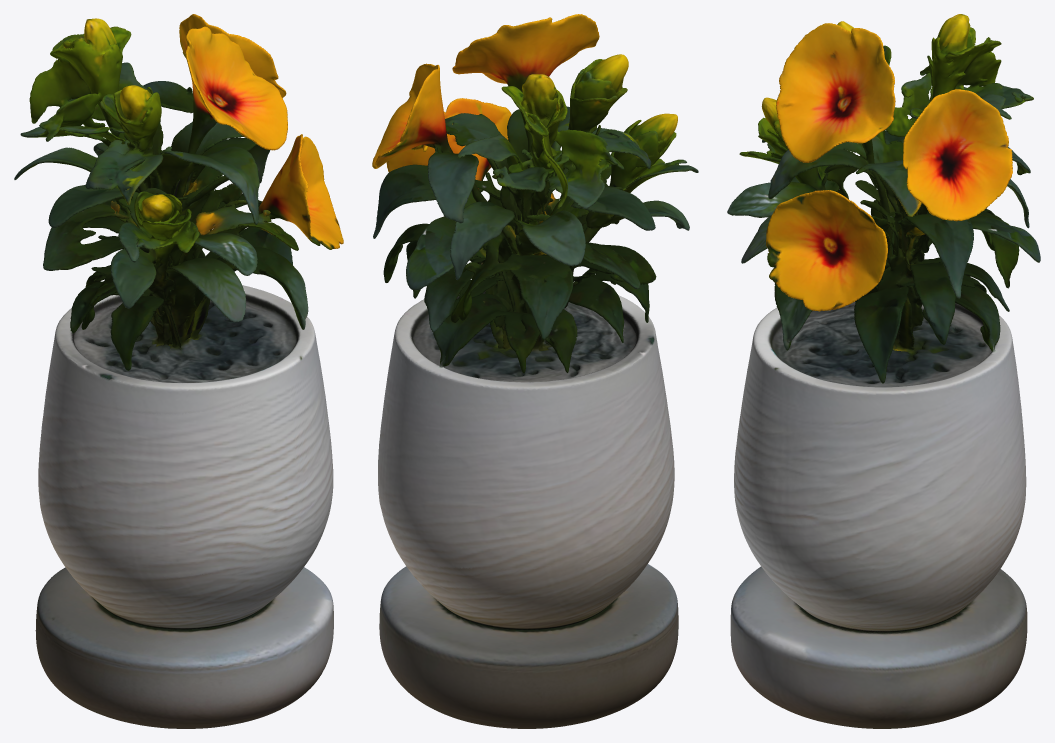
The model's file is 123_Original_07.glb.
The picture shows the model from 3 angles, left to right: view 1: azimuth 30°, elevation 25°; view 2: azimuth 150°, elevation 25°; view 3: azimuth 270°, elevation 25°; orthographic projection.
Visible parts, largest first — view 1: tripo_node_a30e1ed4-022c-4269-84df-464af8ba0b1a; view 2: tripo_node_a30e1ed4-022c-4269-84df-464af8ba0b1a; view 3: tripo_node_a30e1ed4-022c-4269-84df-464af8ba0b1a.
Boxes of the visible parts, <box> form: tripo_node_a30e1ed4-022c-4269-84df-464af8ba0b1a: <box>14,14,343,728</box>; tripo_node_a30e1ed4-022c-4269-84df-464af8ba0b1a: <box>372,14,698,728</box>; tripo_node_a30e1ed4-022c-4269-84df-464af8ba0b1a: <box>727,14,1040,728</box>.
Bounding box in the file's own units: 0.4276 × 1 × 0.4329.
Materials: 1 (1 with a texture image).
